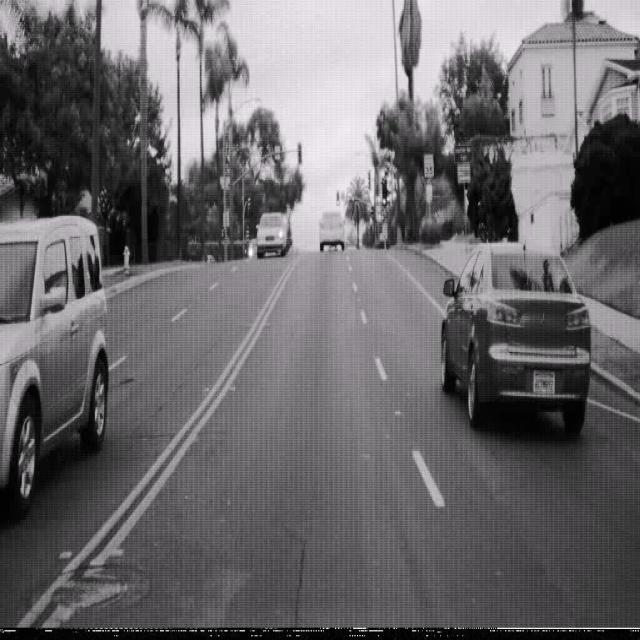speedLimit35: (423, 153, 434, 178)
